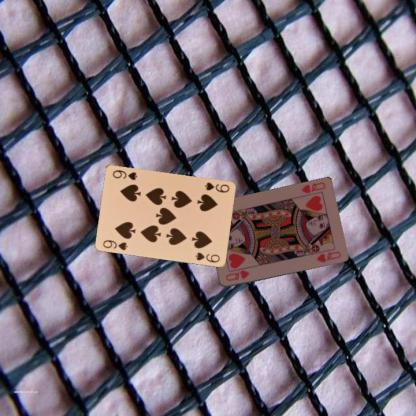9s: (202, 180, 231, 194), (100, 237, 129, 251)
Qh: (298, 180, 327, 194), (223, 268, 250, 282)
